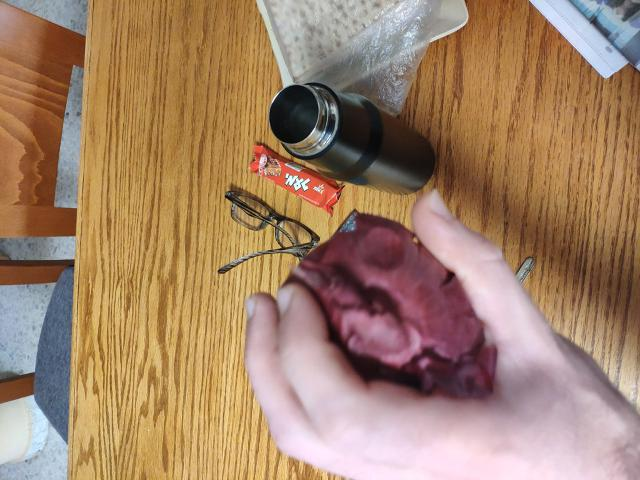onion: (285, 237, 491, 396)
